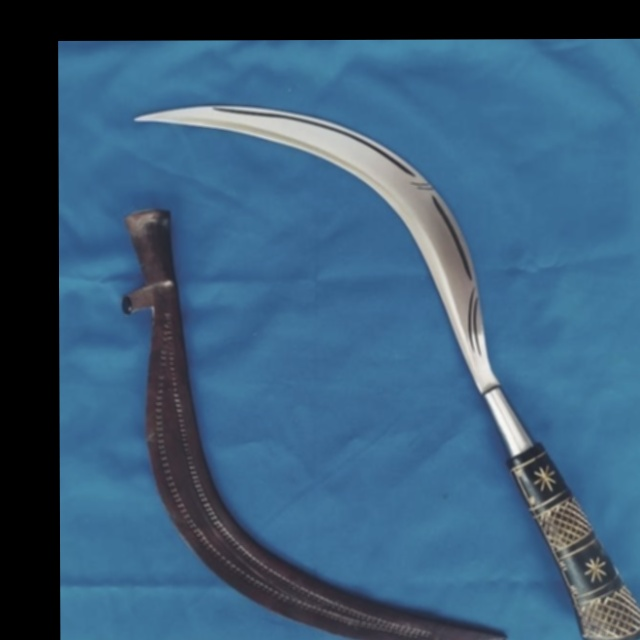Sharp-Object: (177, 60, 635, 640)
